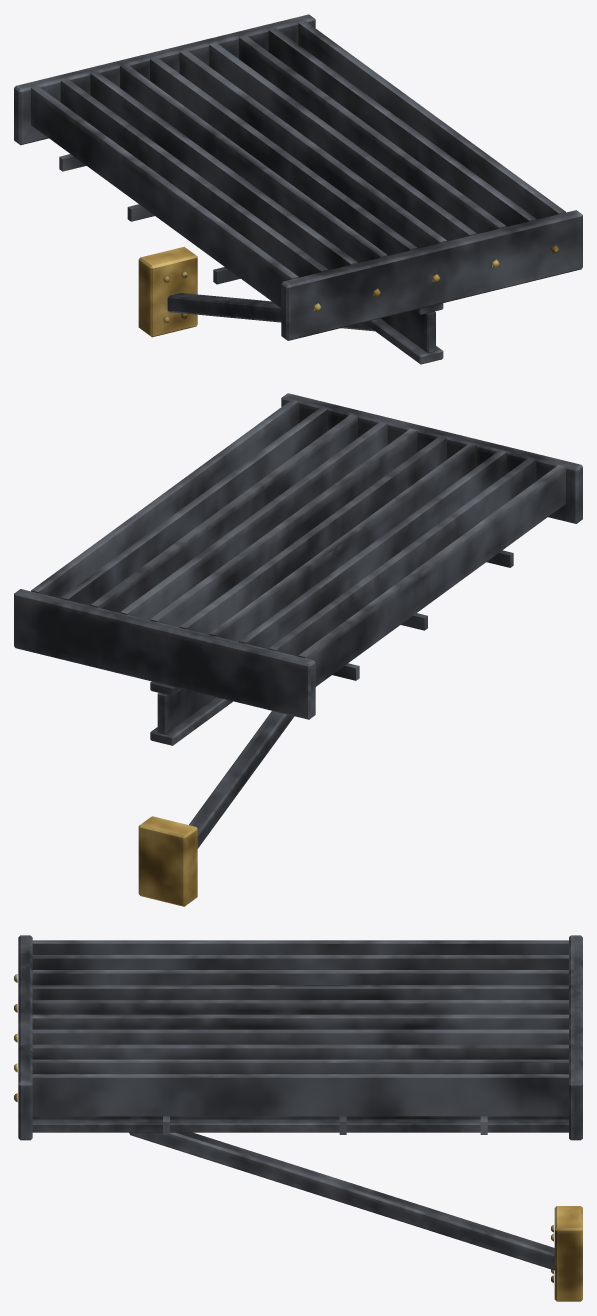
Rendered from ClockLung_Platform.fbx.
The picture shows the model from 3 angles, top to bottom: view 1: azimuth 30°, elevation 25°; view 2: azimuth 150°, elevation 25°; view 3: azimuth 270°, elevation 25°; orthographic projection. The views are drawn at different scales.
Parts seen in each view (by area): view 1: ClockLung_Platform; view 2: ClockLung_Platform; view 3: ClockLung_Platform.
Part boxes in pixels (left/top/right/bottom): ClockLung_Platform: left=14, top=14, right=582, bottom=364; ClockLung_Platform: left=14, top=393, right=582, bottom=906; ClockLung_Platform: left=14, top=935, right=582, bottom=1301.
Bounding box in the file's own units: 1 × 0.88 × 1.61.
